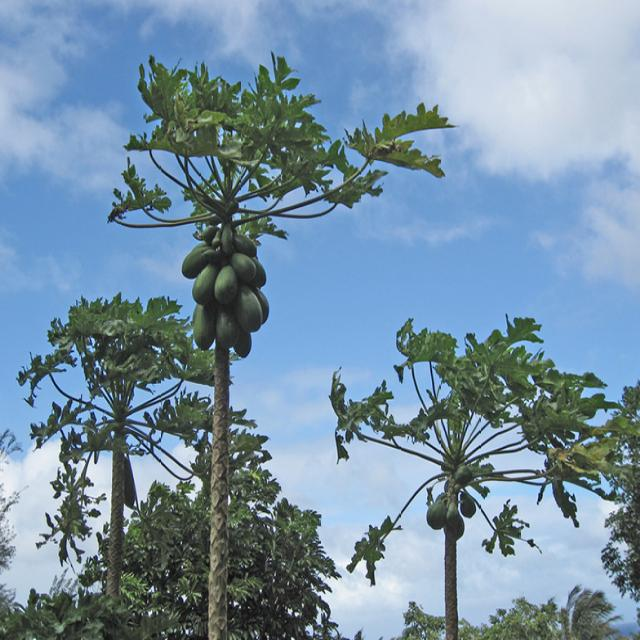Papaya-Tree: (105, 54, 461, 627), (313, 314, 639, 632)
